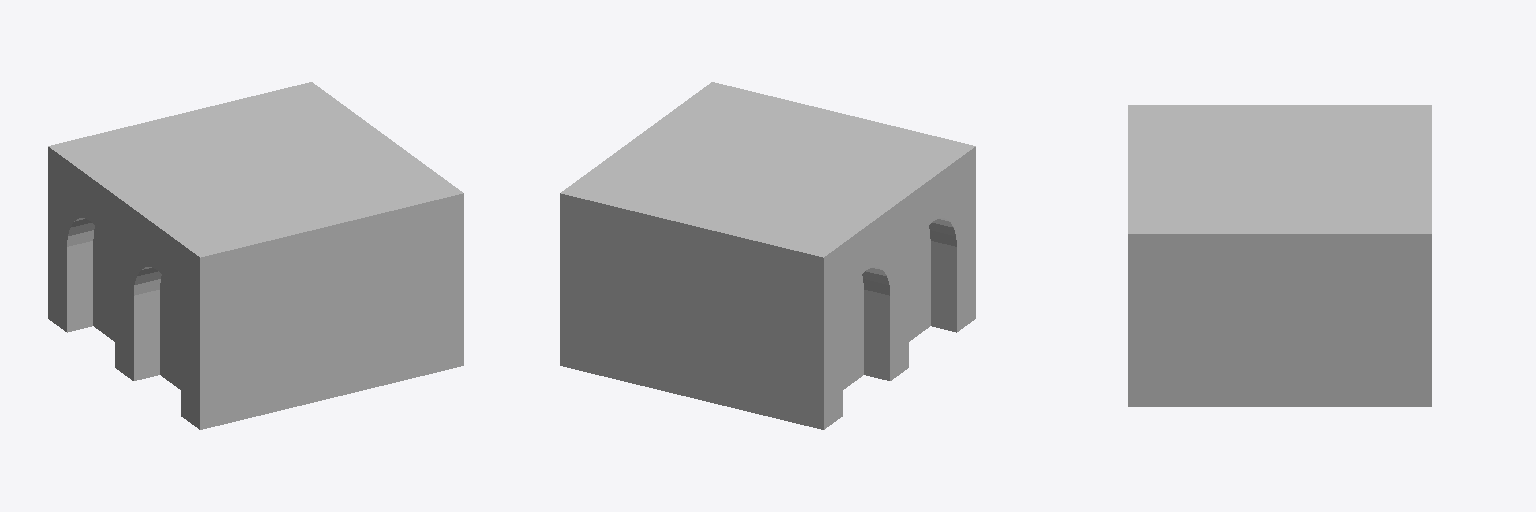
The picture shows the model from 3 angles: view 1: azimuth 30°, elevation 25°; view 2: azimuth 150°, elevation 25°; view 3: azimuth 270°, elevation 25°; orthographic projection.
Visible parts, largest first — view 1: G-__555753_G-__555753_Brick, G-__555753_G-__555753_Glass; view 2: G-__555753_G-__555753_Brick, G-__555753_G-__555753_Glass; view 3: G-__555753_G-__555753_Brick.
Boxes of the visible parts, <box> form: G-__555753_G-__555753_Brick: <box>48,82,463,429</box>; G-__555753_G-__555753_Glass: <box>93,226,180,389</box>; G-__555753_G-__555753_Brick: <box>560,82,975,429</box>; G-__555753_G-__555753_Glass: <box>843,226,930,389</box>; G-__555753_G-__555753_Brick: <box>1128,105,1431,406</box>.
Size of the model in its own units: 1 by 0.625 by 1.